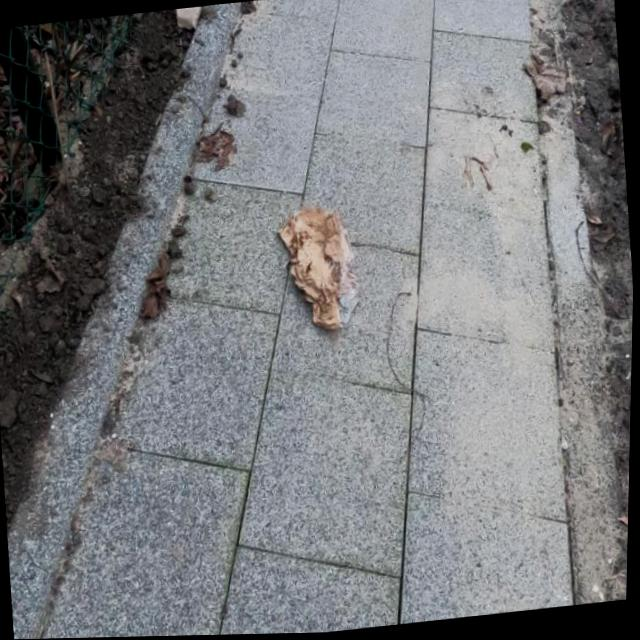Paper: (445, 546, 482, 621)
